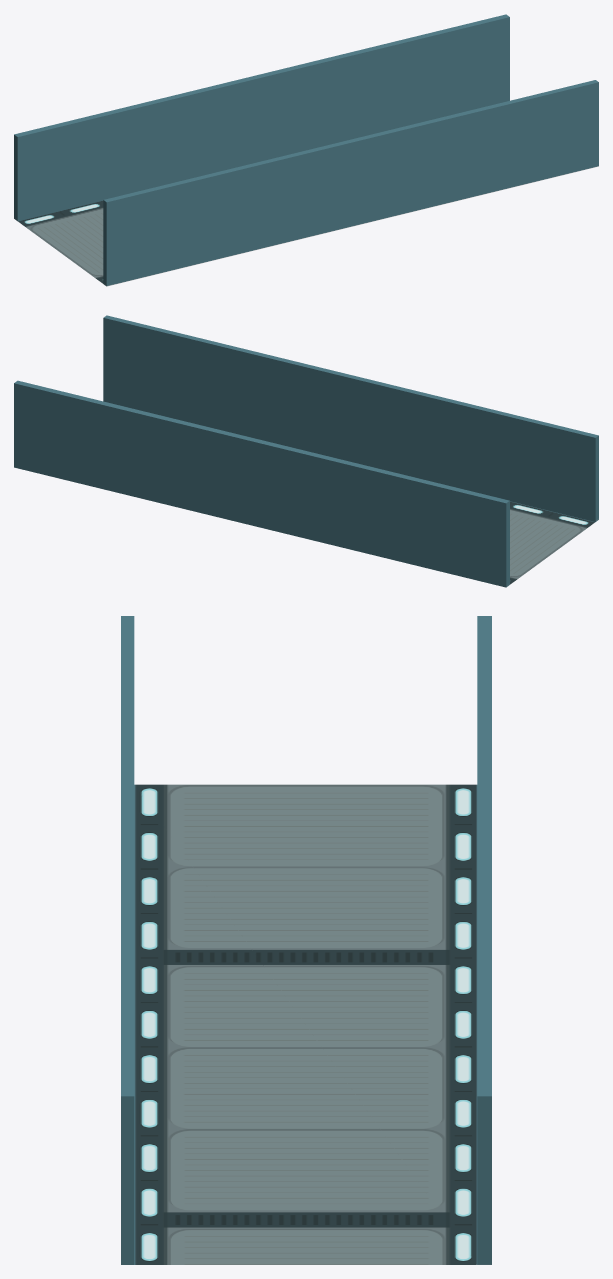
The model's file is PasilloMain.fbx.
The picture shows the model from 3 angles, top to bottom: view 1: azimuth 30°, elevation 25°; view 2: azimuth 150°, elevation 25°; view 3: azimuth 270°, elevation 25°; orthographic projection. The views are drawn at different scales.
Visible parts, largest first — view 1: Plane; view 2: Plane; view 3: Plane.
Boxes of the visible parts, bbox=[...] form: Plane: bbox=[14, 14, 598, 286]; Plane: bbox=[14, 315, 598, 587]; Plane: bbox=[121, 616, 491, 1264].
Bounding box in the file's own units: 5612 × 918 × 1832.
